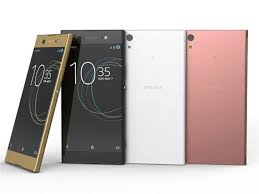sony: (1, 30, 70, 176), (60, 29, 126, 167), (111, 28, 177, 166)
